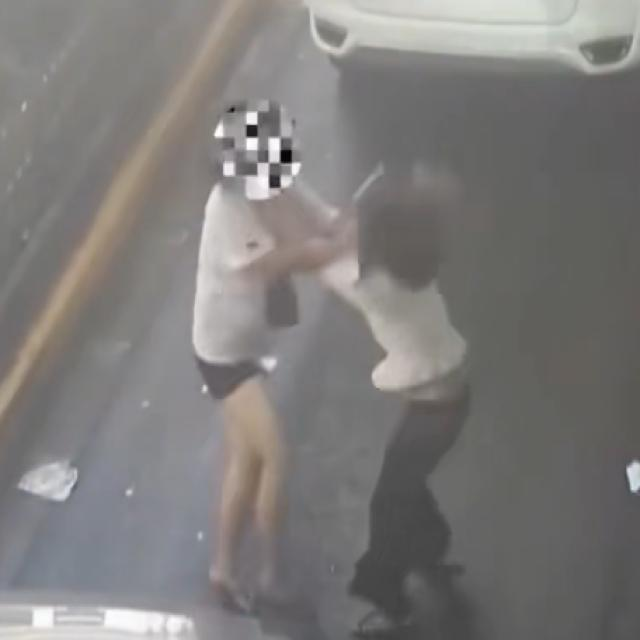fight: (202, 116, 450, 324)
